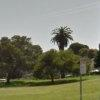Palm tree: (50, 21, 73, 68)
